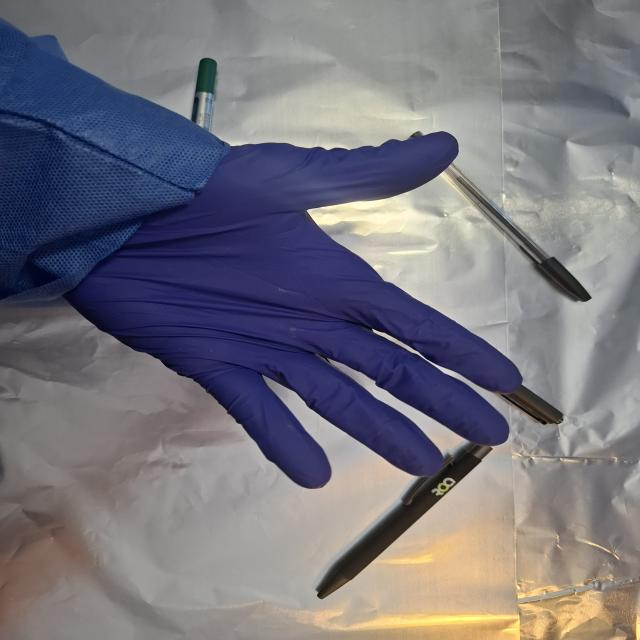glove_on: (58, 129, 526, 491)
